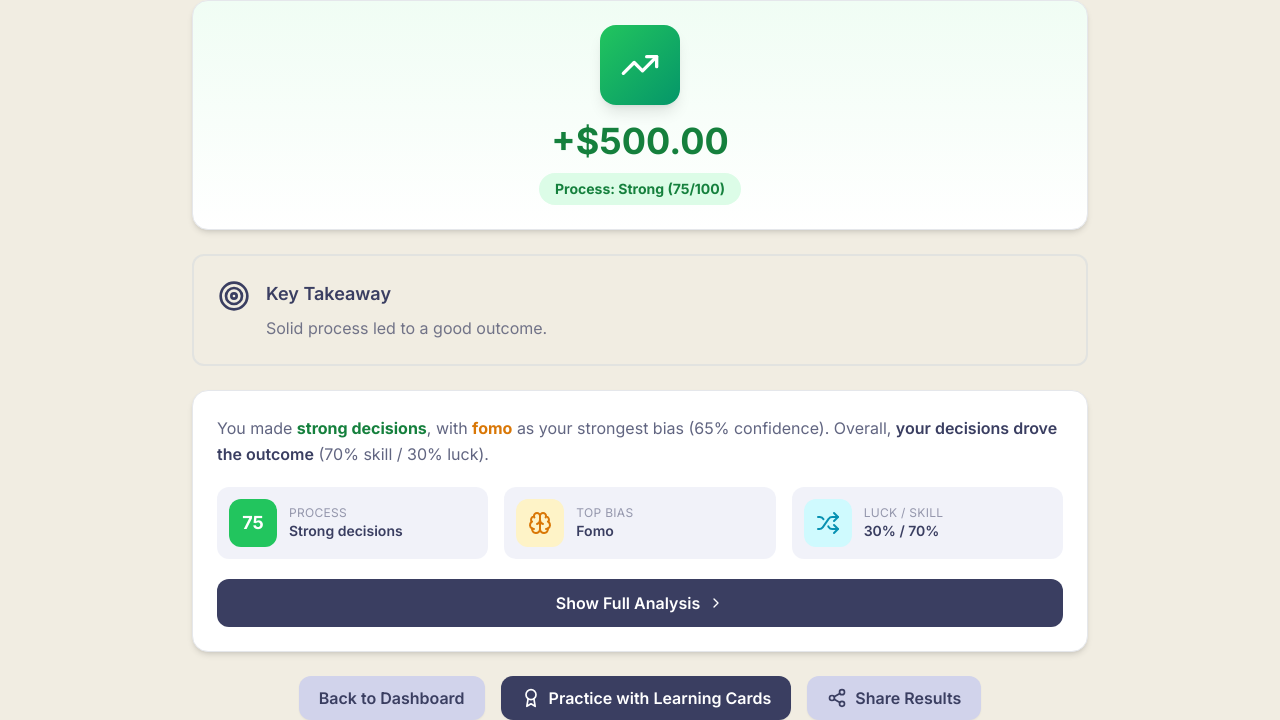
Test case: Reflection Page › expands full analysis when button is clicked
Check: the text "Show Full Analysis" is shown, box [556,591,700,615]
Click the button "Show Full Analysis": coordinates (640, 603) [217,579,1063,627]
(page scrolled)
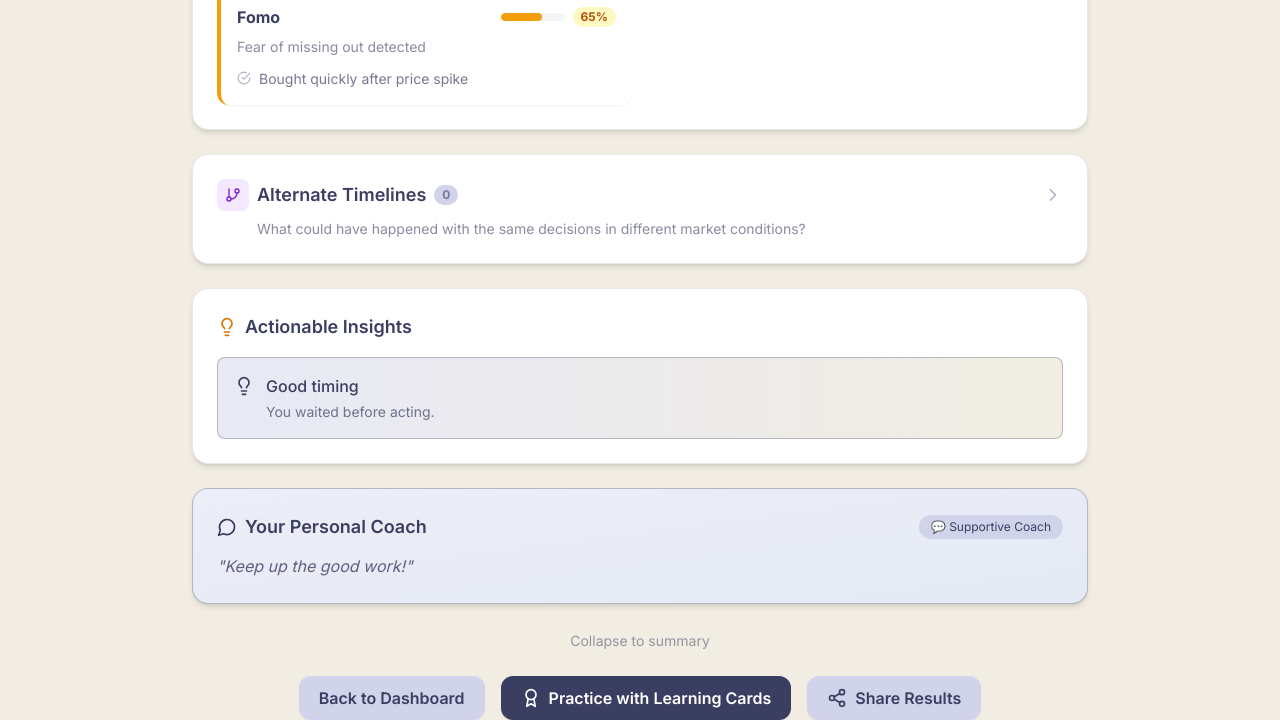
Check: the button "Collapse to summary" is shown, box [570,631,710,651]
